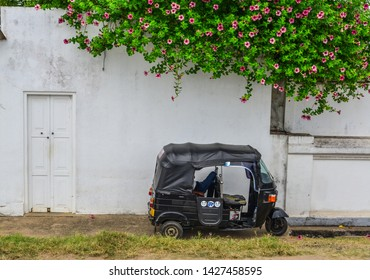threewheel: (147, 142, 289, 239)
